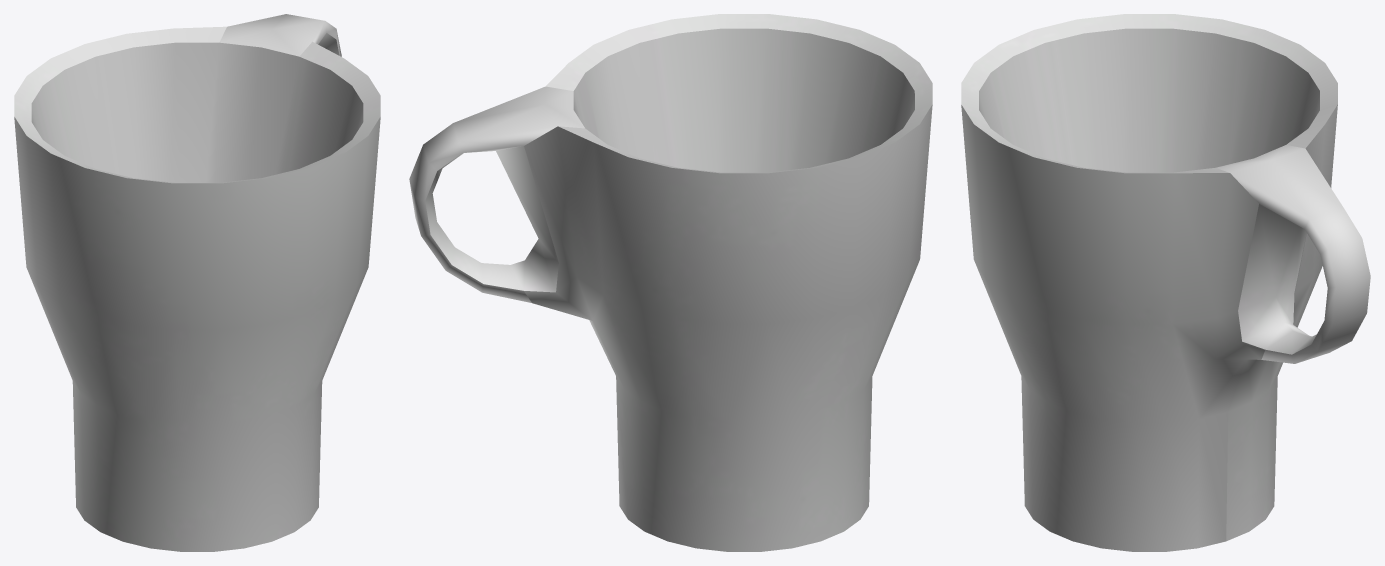
The model's file is propCoffeeCup.fbx.
3 views of the same model, side by side, from view 1: azimuth 30°, elevation 25°; view 2: azimuth 150°, elevation 25°; view 3: azimuth 270°, elevation 25° (orthographic). The views are drawn at different scales.
Visible parts, largest first — view 1: propCoffeeCup; view 2: propCoffeeCup; view 3: propCoffeeCup.
Boxes of the visible parts, left/top/right/bottom form: propCoffeeCup: left=14, top=14, right=380, bottom=551; propCoffeeCup: left=409, top=14, right=932, bottom=551; propCoffeeCup: left=961, top=14, right=1370, bottom=551.
Size of the model in its own units: 10.8 by 10.36 by 9.46.
Materials: 1 (1 with a texture image).
